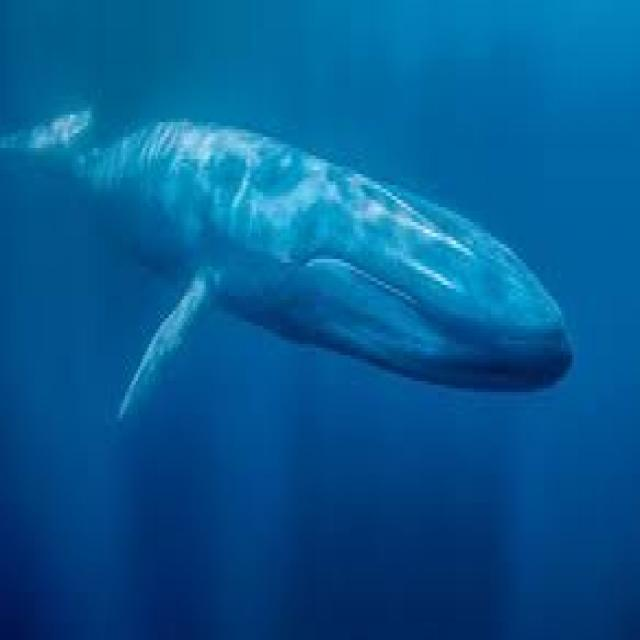blue_whale: (24, 70, 577, 496)
